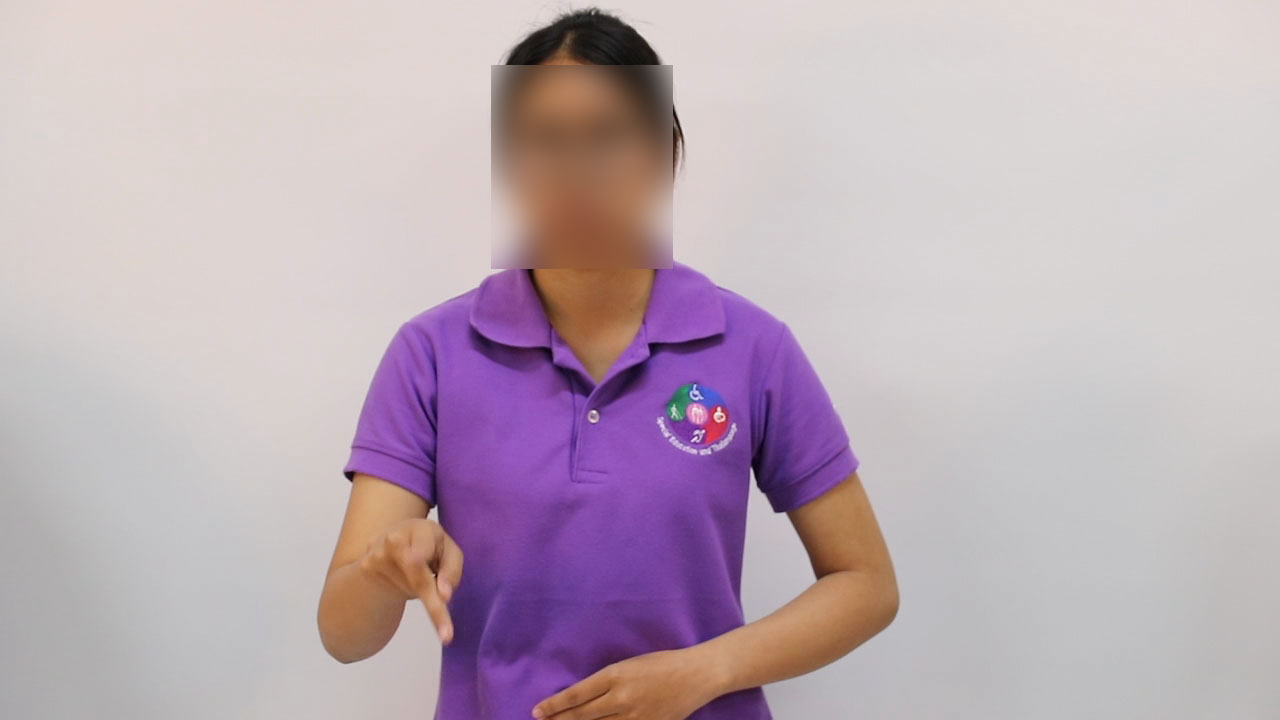por: (358, 504, 473, 657)
